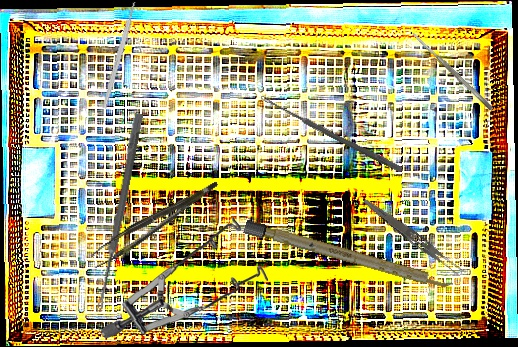Dressing Forceps: (358, 196, 467, 279)
Scalpel Handle: (243, 219, 455, 293), (101, 0, 138, 110)
Spatula Surgical: (410, 30, 495, 112)
Speculum: (99, 211, 271, 345)
Surgical Spoon: (259, 94, 403, 173), (94, 112, 144, 314)
Tissue Forceps: (84, 181, 227, 269)
